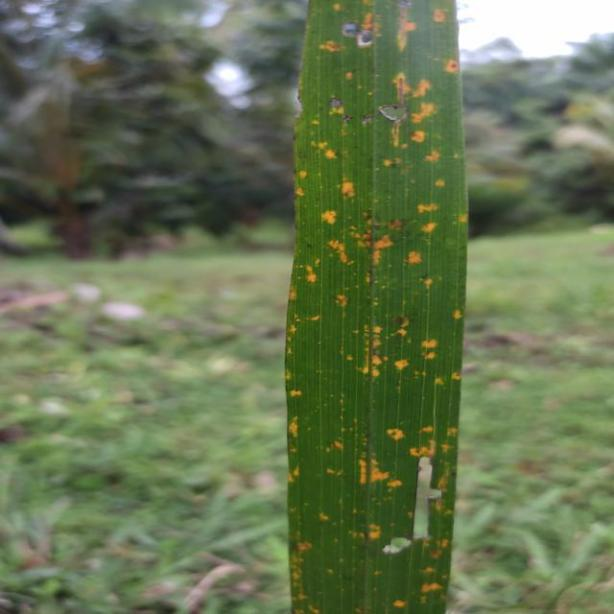Kalium: (283, 1, 470, 614)
